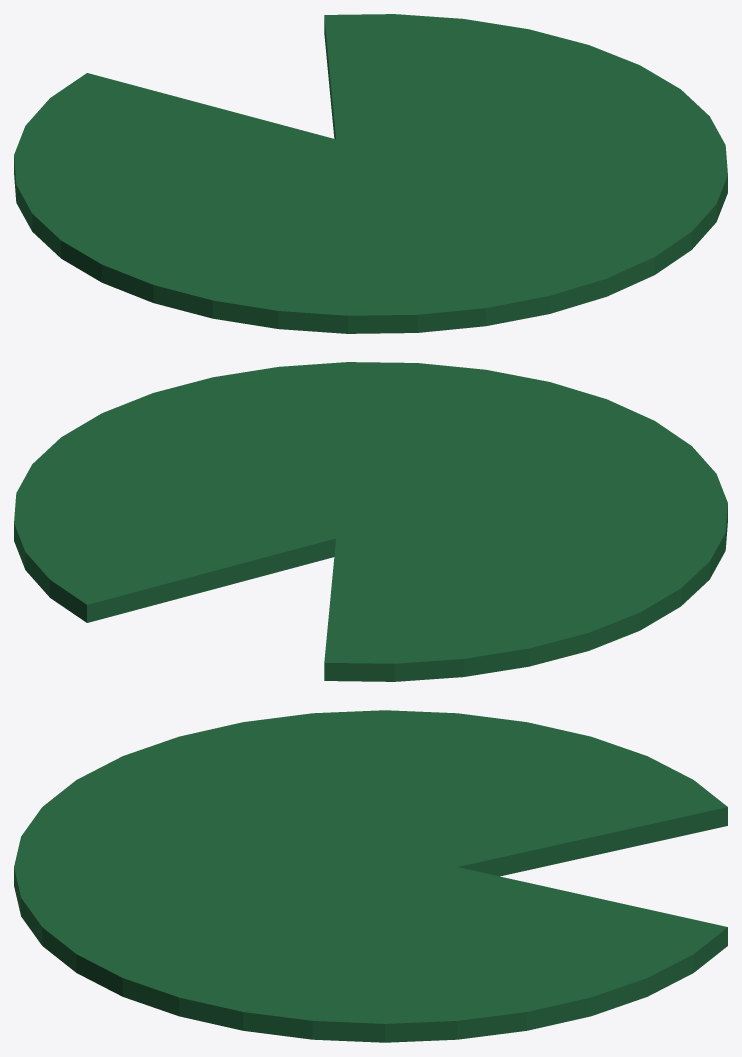
The model's file is Nenufar 1.fbx.
3 renders of one model, top to bottom at view 1: azimuth 30°, elevation 25°; view 2: azimuth 150°, elevation 25°; view 3: azimuth 270°, elevation 25°, orthographic. The views are drawn at different scales.
Parts seen in each view (by area): view 1: Nenufar; view 2: Nenufar; view 3: Nenufar.
Boxes of the visible parts, x1,y1,x2,y2 form: Nenufar: (14, 14, 727, 333); Nenufar: (14, 362, 727, 681); Nenufar: (14, 710, 727, 1042).
Bounding box in the file's own units: 200 × 5.6 × 192.
